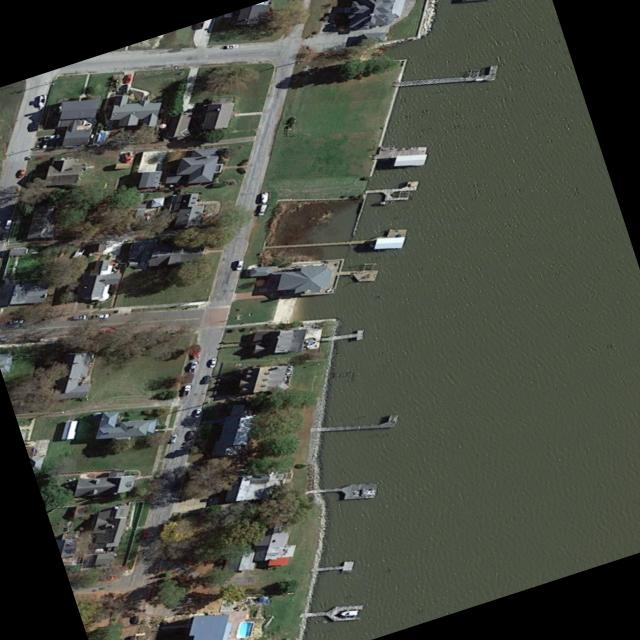ship: (37, 94, 49, 109), (259, 191, 270, 205), (339, 611, 359, 616)
small-vehicle: (186, 361, 199, 374), (256, 204, 269, 216), (42, 134, 61, 141), (234, 260, 246, 271), (182, 384, 192, 397), (16, 168, 27, 179), (141, 530, 151, 542), (224, 43, 241, 50), (92, 313, 111, 319), (3, 219, 13, 230), (186, 430, 196, 441), (168, 434, 178, 445), (71, 315, 89, 321), (124, 151, 132, 164), (130, 615, 140, 625), (208, 358, 217, 369), (193, 407, 202, 418), (9, 319, 24, 325), (96, 577, 114, 582), (123, 74, 132, 84), (203, 375, 211, 385), (128, 636, 136, 640)
